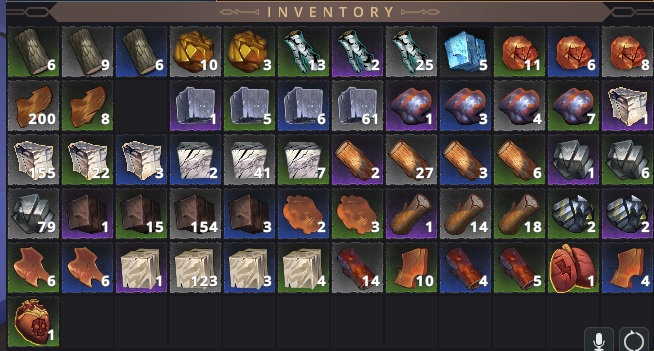copper: (545, 24, 600, 77), (493, 24, 547, 77), (602, 25, 653, 77)
iron: (491, 78, 546, 131), (547, 78, 600, 132), (439, 80, 493, 131), (386, 80, 438, 132)
